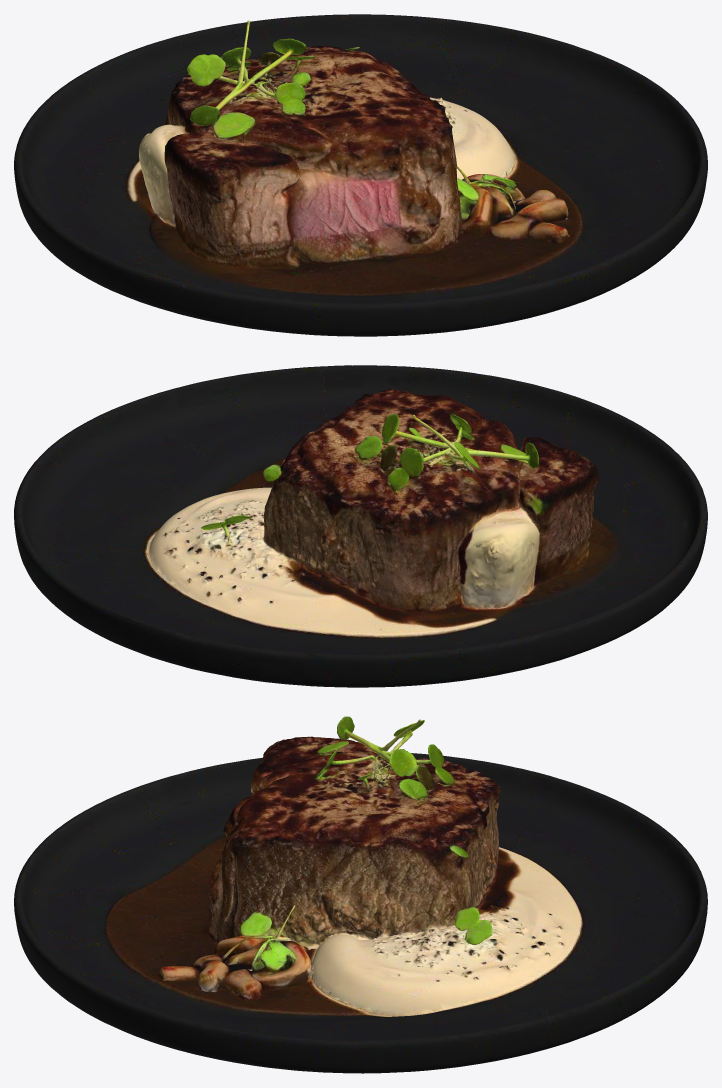
File: pave-boeuf-ar-lite-meshy.glb
The picture shows the model from 3 angles, top to bottom: view 1: azimuth 30°, elevation 25°; view 2: azimuth 150°, elevation 25°; view 3: azimuth 270°, elevation 25°; orthographic projection.
Parts seen in each view (by area): view 1: node0; view 2: node0; view 3: node0.
Part boxes in pixels (box(x1,y1,x2,y2)): node0: box(14, 14, 707, 336); node0: box(14, 365, 707, 687); node0: box(14, 716, 707, 1073).
Size of the model in its own units: 0.2 by 0.0682 by 0.2.
1 material, 1 textured.
